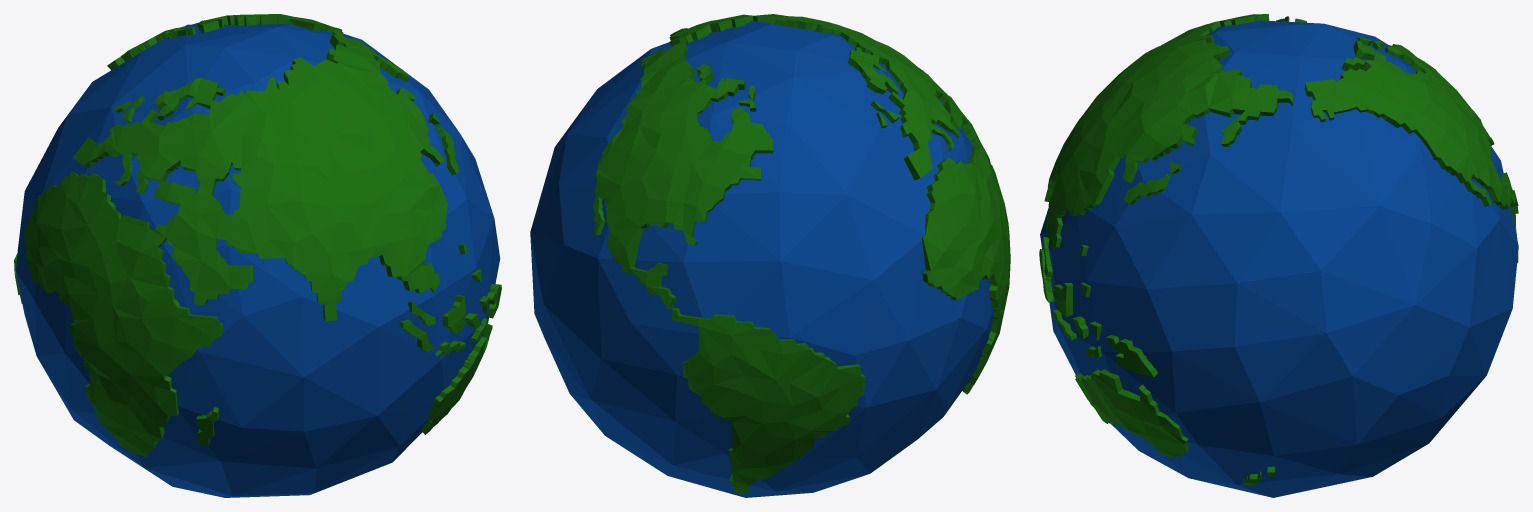
The model's file is planet.FBX.
3 renders of one model, left to right at view 1: azimuth 30°, elevation 25°; view 2: azimuth 150°, elevation 25°; view 3: azimuth 270°, elevation 25°, orthographic.
Parts seen in each view (by area): view 1: Land_, Oceans; view 2: Oceans, Land_; view 3: Oceans, Land_.
Boxes of the visible parts, bbox=[...] form: Land_: bbox=[14, 14, 501, 456]; Oceans: bbox=[16, 24, 500, 497]; Oceans: bbox=[530, 20, 993, 497]; Land_: bbox=[593, 14, 1010, 494]; Oceans: bbox=[1040, 20, 1518, 497]; Land_: bbox=[1039, 14, 1518, 485].
Bounding box in the file's own units: 206 × 206 × 207.
